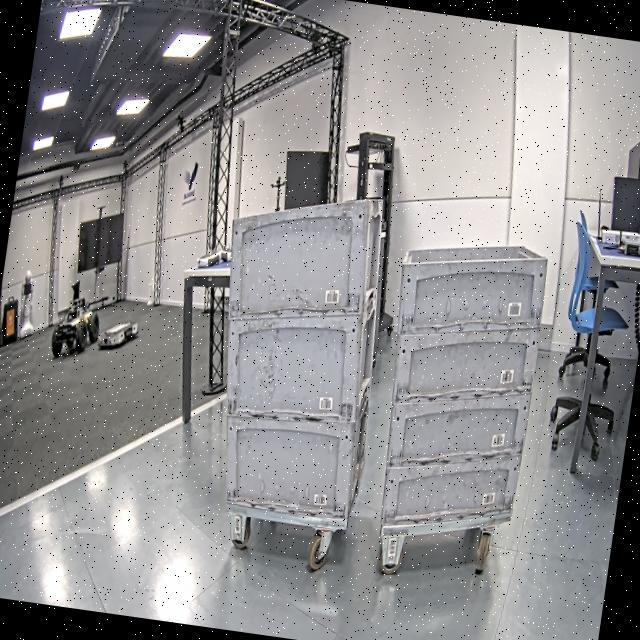Box3G: (392, 228, 552, 356), (390, 308, 541, 424), (384, 375, 534, 488), (378, 434, 526, 548)
Box4G: (218, 176, 392, 343), (214, 280, 384, 441), (214, 372, 376, 530)
